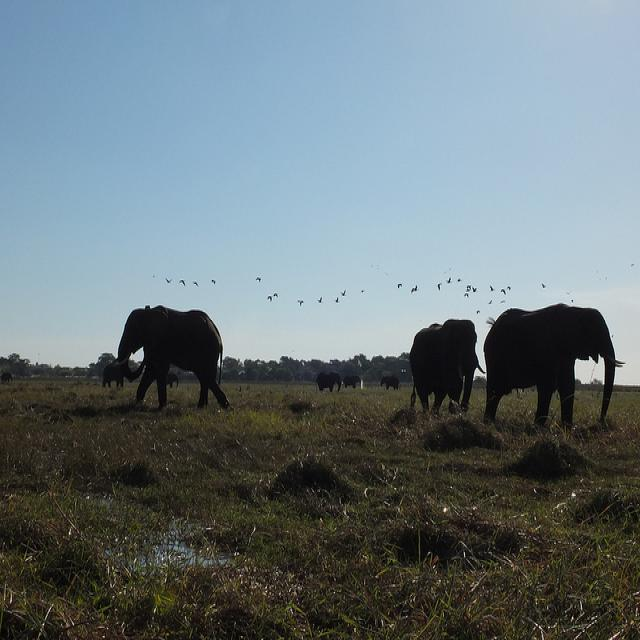Elephant: (483, 303, 624, 429), (117, 304, 229, 409), (409, 317, 485, 415), (315, 371, 340, 392), (342, 373, 362, 388), (379, 375, 399, 389)
